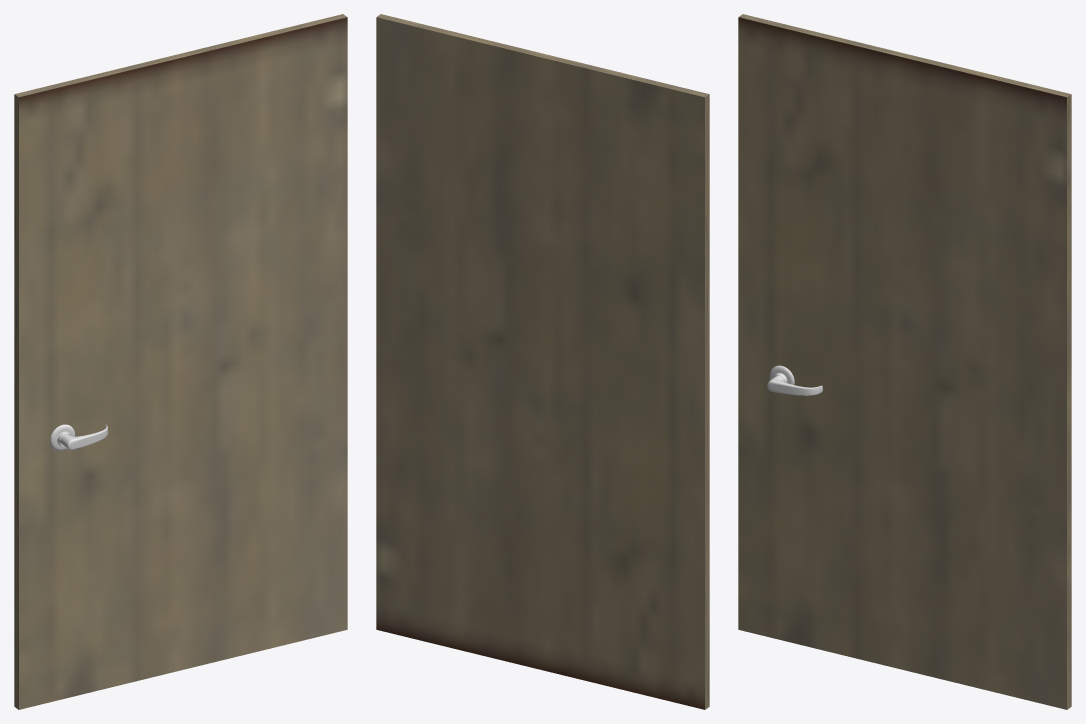
The model's file is swingDoor.fbx.
3 renders of one model, left to right at view 1: azimuth 30°, elevation 25°; view 2: azimuth 150°, elevation 25°; view 3: azimuth 330°, elevation 25°, orthographic.
Parts seen in each view (by area): view 1: pCube28, doorHandle; view 2: pCube28; view 3: pCube28, doorHandle.
Part boxes in pixels (bbox=[...]): pCube28: bbox=[14, 14, 347, 709]; doorHandle: bbox=[50, 424, 108, 451]; pCube28: bbox=[376, 14, 709, 709]; pCube28: bbox=[738, 14, 1071, 709]; doorHandle: bbox=[767, 365, 822, 395].
Size of the model in its own units: 96.01 by 171 by 7.62.
